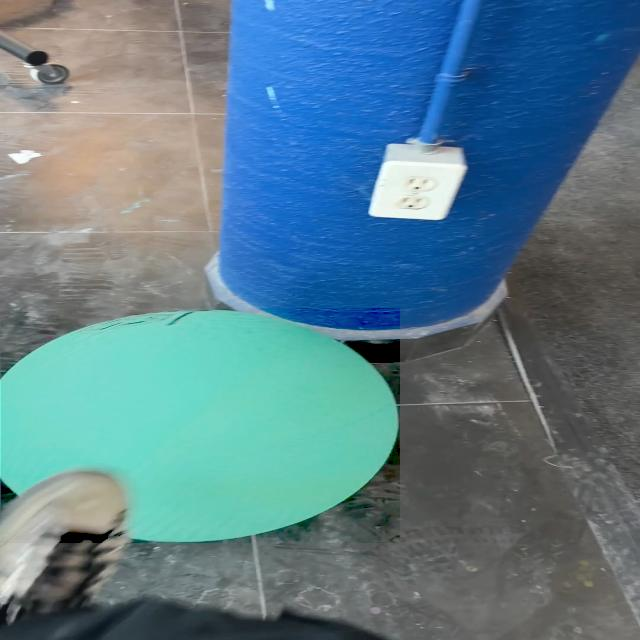Algae: (1, 308, 400, 543)
